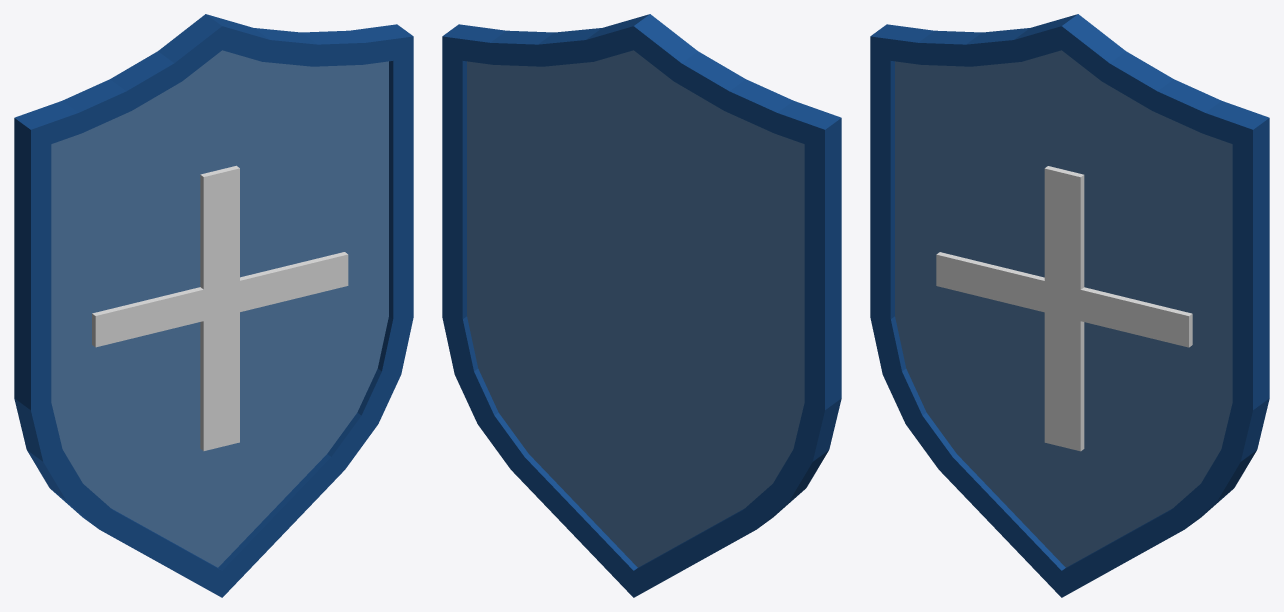
The model's file is Shield.fbx.
3 renders of one model, left to right at view 1: azimuth 30°, elevation 25°; view 2: azimuth 150°, elevation 25°; view 3: azimuth 330°, elevation 25°, orthographic.
Parts seen in each view (by area): view 1: Shield; view 2: Shield; view 3: Shield.
Part boxes in pixels (bbox=[...]): Shield: bbox=[14, 14, 413, 597]; Shield: bbox=[442, 14, 841, 597]; Shield: bbox=[870, 14, 1269, 597].
Bounding box in the file's own units: 38.39 × 54.78 × 2.88.
